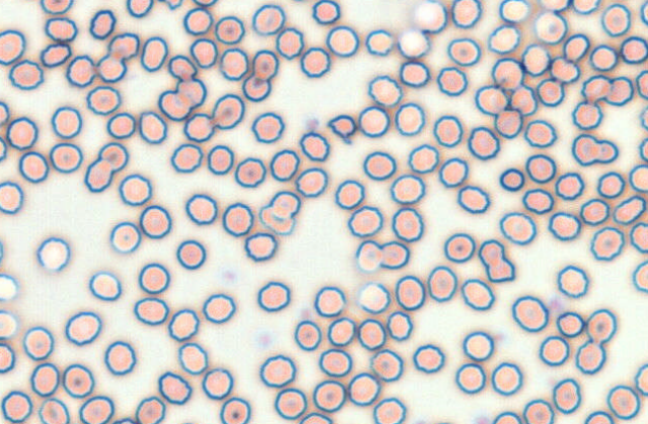PLT: (220, 267, 241, 286), (305, 116, 320, 131), (298, 307, 313, 322), (257, 334, 272, 348), (473, 415, 492, 424)
RBC: (477, 239, 515, 282), (511, 295, 549, 332), (64, 310, 102, 345), (589, 226, 625, 261), (499, 211, 536, 245), (606, 384, 640, 420), (36, 236, 70, 272), (259, 354, 296, 387), (211, 93, 244, 129), (347, 204, 383, 237), (533, 10, 567, 44), (412, 0, 447, 33), (355, 281, 390, 314), (391, 207, 424, 242), (157, 371, 192, 404), (367, 74, 402, 107), (467, 125, 500, 160), (103, 340, 136, 375), (585, 308, 617, 344), (426, 265, 457, 302), (118, 173, 152, 206), (347, 372, 380, 406), (0, 389, 33, 423), (369, 348, 403, 381), (490, 361, 523, 395), (312, 379, 346, 412), (556, 264, 589, 298), (574, 339, 606, 374), (460, 278, 495, 310), (62, 363, 94, 398), (22, 325, 54, 360), (389, 173, 425, 204), (394, 274, 425, 310), (8, 59, 44, 90), (274, 387, 307, 420), (222, 202, 254, 236), (139, 204, 171, 238), (6, 116, 38, 150), (251, 3, 285, 35), (50, 105, 82, 139), (325, 25, 359, 57), (259, 205, 295, 235), (552, 377, 581, 414), (397, 27, 430, 59), (167, 308, 199, 341), (137, 262, 170, 294), (201, 367, 233, 400), (313, 285, 346, 317), (251, 111, 284, 143), (357, 105, 390, 137), (257, 280, 290, 312), (474, 84, 508, 115), (612, 194, 646, 225), (394, 102, 425, 136), (49, 142, 83, 173), (202, 292, 236, 323), (600, 3, 631, 37), (86, 85, 121, 115), (133, 296, 169, 325), (491, 57, 523, 89), (234, 156, 266, 188), (109, 221, 141, 253), (185, 193, 217, 225), (65, 54, 96, 87), (269, 148, 300, 181), (177, 342, 208, 375), (487, 23, 520, 54), (432, 114, 463, 147), (88, 270, 121, 301), (83, 158, 113, 192), (294, 167, 328, 197), (547, 211, 581, 241), (456, 184, 490, 214), (362, 150, 396, 180), (30, 362, 59, 397), (446, 37, 481, 66), (78, 395, 114, 423), (140, 36, 168, 72), (158, 89, 190, 120), (454, 362, 485, 394), (18, 151, 49, 183), (462, 330, 494, 361), (443, 232, 475, 263), (521, 43, 551, 76), (244, 231, 277, 261), (219, 47, 249, 80), (170, 143, 203, 173), (412, 343, 445, 373), (138, 110, 167, 144), (318, 348, 352, 377), (523, 119, 557, 148), (538, 335, 569, 366), (299, 46, 330, 77), (334, 178, 365, 209), (183, 112, 215, 142), (571, 100, 603, 130), (407, 143, 439, 173), (436, 66, 468, 96), (275, 26, 304, 59), (176, 77, 206, 108), (98, 141, 128, 172), (604, 75, 634, 106), (525, 153, 556, 183), (299, 131, 330, 161), (175, 239, 206, 269), (571, 133, 600, 165), (357, 318, 386, 350), (372, 396, 406, 423), (96, 53, 126, 83), (0, 29, 25, 65), (438, 157, 468, 187), (189, 37, 218, 68), (214, 15, 245, 44), (269, 190, 301, 218), (107, 32, 139, 60), (293, 319, 321, 351), (450, 0, 482, 28), (355, 239, 382, 272), (379, 240, 409, 269), (494, 108, 523, 138), (535, 77, 564, 107), (554, 171, 584, 200), (327, 316, 356, 346), (580, 74, 611, 102), (206, 144, 234, 175), (510, 84, 537, 116), (219, 396, 251, 423), (521, 188, 554, 214), (44, 16, 77, 42), (241, 74, 271, 102), (183, 7, 213, 35), (135, 395, 165, 423), (588, 43, 618, 71), (88, 9, 116, 39), (252, 49, 279, 80), (399, 60, 430, 87), (38, 397, 70, 423), (596, 170, 625, 198), (106, 111, 135, 139), (550, 56, 580, 83), (579, 198, 609, 225), (386, 310, 412, 341), (39, 42, 71, 67), (522, 398, 554, 423), (365, 28, 393, 56), (562, 33, 589, 62), (620, 35, 647, 64), (0, 180, 23, 214), (167, 54, 197, 80), (498, 0, 530, 23), (556, 311, 584, 337), (311, 0, 340, 24), (499, 167, 524, 191), (629, 221, 647, 253), (0, 309, 19, 339), (0, 272, 19, 301), (628, 163, 647, 192), (596, 138, 618, 163), (632, 259, 647, 293), (125, 0, 153, 17), (39, 0, 73, 14), (0, 342, 15, 373), (634, 363, 647, 396), (298, 411, 333, 423), (536, 0, 570, 12), (583, 410, 614, 423), (572, 0, 600, 14), (491, 411, 522, 423), (635, 69, 647, 99), (0, 100, 9, 126), (638, 137, 647, 162), (639, 105, 647, 130), (163, 0, 183, 10), (639, 0, 647, 25), (0, 135, 7, 162), (191, 0, 218, 7), (111, 417, 137, 423), (0, 238, 4, 265)
Schistocyte: (328, 115, 357, 141)
